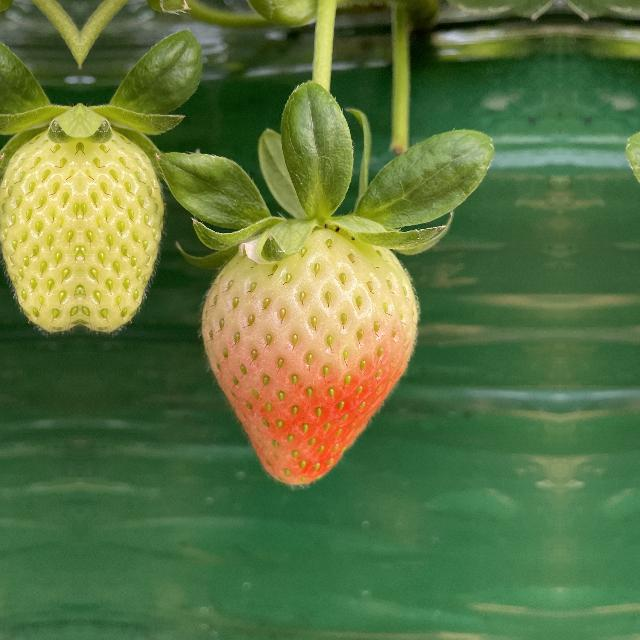Health_25: (80, 94, 166, 343), (0, 94, 79, 343)
Health_75: (200, 216, 430, 488)
